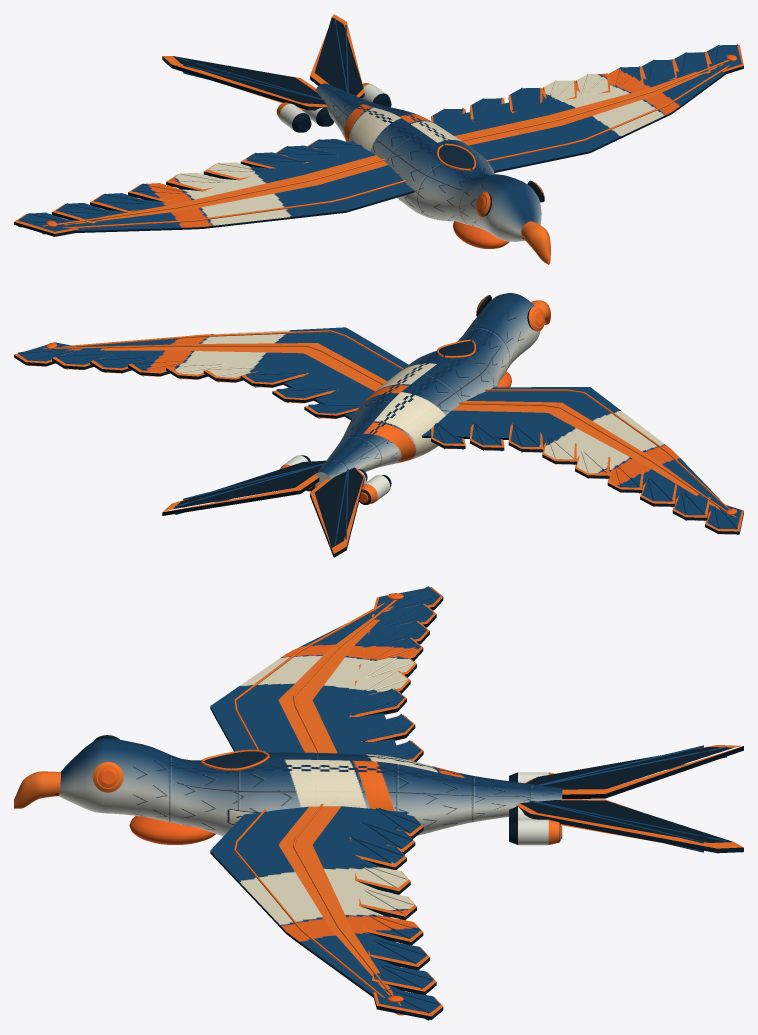
The picture shows the model from 3 angles, top to bottom: view 1: azimuth 30°, elevation 25°; view 2: azimuth 150°, elevation 25°; view 3: azimuth 270°, elevation 25°; orthographic projection. The views are drawn at different scales.
Parts seen in each view (by area): view 1: frigatebird_hull; view 2: frigatebird_hull; view 3: frigatebird_hull.
Boxes of the visible parts, x1,y1,x2,y2 form: frigatebird_hull: [14, 14, 743, 264]; frigatebird_hull: [14, 293, 743, 557]; frigatebird_hull: [14, 586, 743, 1020].
Size of the model in its own units: 88 by 9.38 by 63.18.
Materials: 1 (1 with a texture image).
